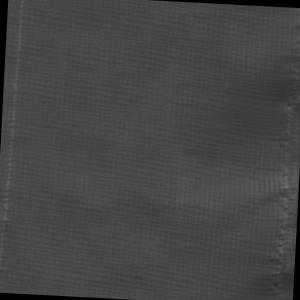Wrinkle: (100, 51, 283, 300)
